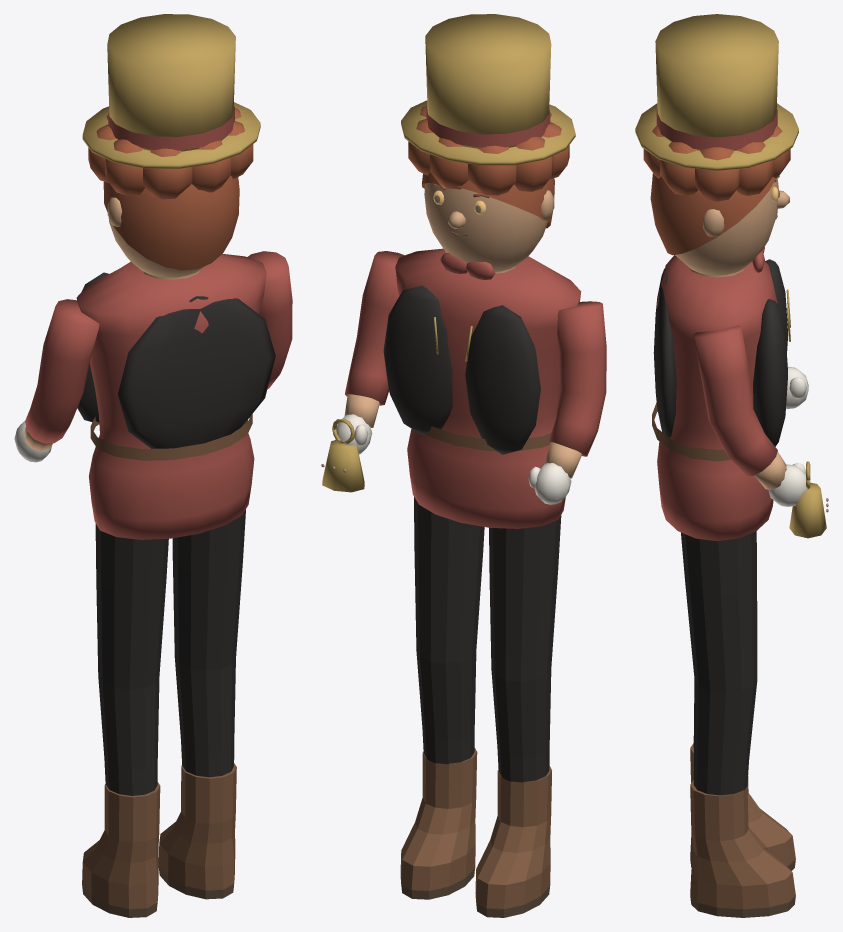
The model's file is SM_NPC_MELODIA.glb.
The picture shows the model from 3 angles, left to right: view 1: azimuth 30°, elevation 25°; view 2: azimuth 150°, elevation 25°; view 3: azimuth 270°, elevation 25°; orthographic projection. The views are drawn at different scales.
Visible parts, largest first — view 1: SM_NPC_MELODIA_BODY, SM_NPC_MELODIA_HAIR, SM_NPC_MELODIA_LEG_L, SM_NPC_MELODIA_LEG_R, SM_NPC_MELODIA_ARM_L, SM_NPC_MELODIA_ARM_R, SM_NPC_MELODIA_HEAD; view 2: SM_NPC_MELODIA_BODY, SM_NPC_MELODIA_HAIR, SM_NPC_MELODIA_LEG_L, SM_NPC_MELODIA_LEG_R, SM_NPC_MELODIA_ARM_L, SM_NPC_MELODIA_ARM_R, SM_NPC_MELODIA_HEAD; view 3: SM_NPC_MELODIA_HAIR, SM_NPC_MELODIA_BODY, SM_NPC_MELODIA_LEG_R, SM_NPC_MELODIA_ARM_R, SM_NPC_MELODIA_HEAD, SM_NPC_MELODIA_LEG_L, SM_NPC_MELODIA_ARM_L.
Boxes of the visible parts, x1=… form: SM_NPC_MELODIA_BODY: x1=76, y1=253, x2=275, y2=539; SM_NPC_MELODIA_HAIR: x1=82, y1=14, x2=260, y2=270; SM_NPC_MELODIA_LEG_L: x1=82, y1=523, x2=168, y2=917; SM_NPC_MELODIA_LEG_R: x1=158, y1=509, x2=245, y2=899; SM_NPC_MELODIA_ARM_L: x1=14, y1=299, x2=99, y2=462; SM_NPC_MELODIA_ARM_R: x1=245, y1=251, x2=292, y2=424; SM_NPC_MELODIA_HEAD: x1=107, y1=181, x2=238, y2=277; SM_NPC_MELODIA_BODY: x1=383, y1=248, x2=581, y2=528; SM_NPC_MELODIA_HAIR: x1=401, y1=14, x2=575, y2=228; SM_NPC_MELODIA_LEG_L: x1=475, y1=515, x2=561, y2=917; SM_NPC_MELODIA_LEG_R: x1=400, y1=497, x2=484, y2=899; SM_NPC_MELODIA_ARM_L: x1=528, y1=301, x2=606, y2=504; SM_NPC_MELODIA_ARM_R: x1=321, y1=251, x2=404, y2=492; SM_NPC_MELODIA_HEAD: x1=424, y1=183, x2=554, y2=271; SM_NPC_MELODIA_HAIR: x1=635, y1=14, x2=798, y2=255; SM_NPC_MELODIA_BODY: x1=652, y1=247, x2=790, y2=541; SM_NPC_MELODIA_LEG_R: x1=681, y1=531, x2=795, y2=917; SM_NPC_MELODIA_ARM_R: x1=693, y1=325, x2=828, y2=538; SM_NPC_MELODIA_HEAD: x1=675, y1=177, x2=789, y2=275; SM_NPC_MELODIA_LEG_L: x1=690, y1=543, x2=795, y2=870; SM_NPC_MELODIA_ARM_L: x1=786, y1=366, x2=808, y2=408.
Bounding box in the file's own units: 0.6008 × 1.98 × 0.4097.
